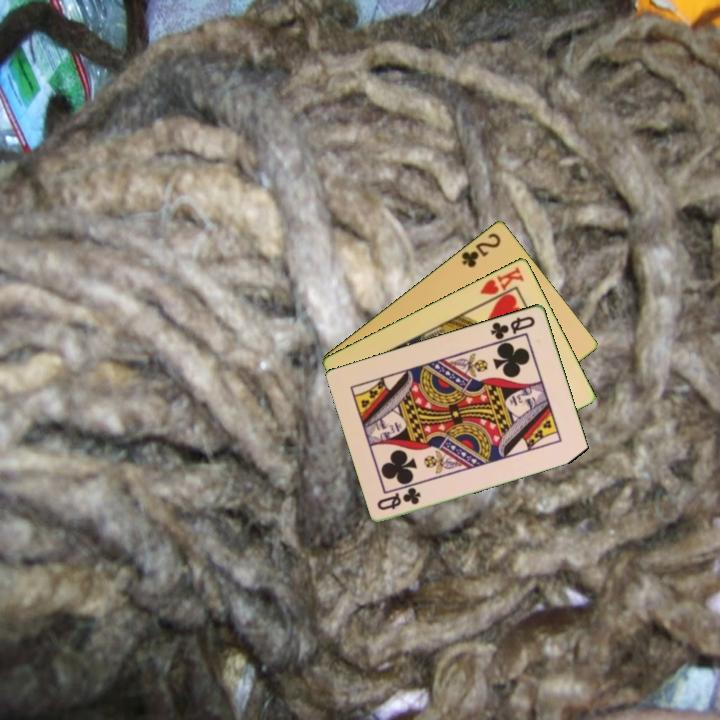2c: (458, 229, 504, 270)
Kh: (476, 263, 527, 306)
Qc: (487, 312, 538, 342), (374, 484, 424, 513)
